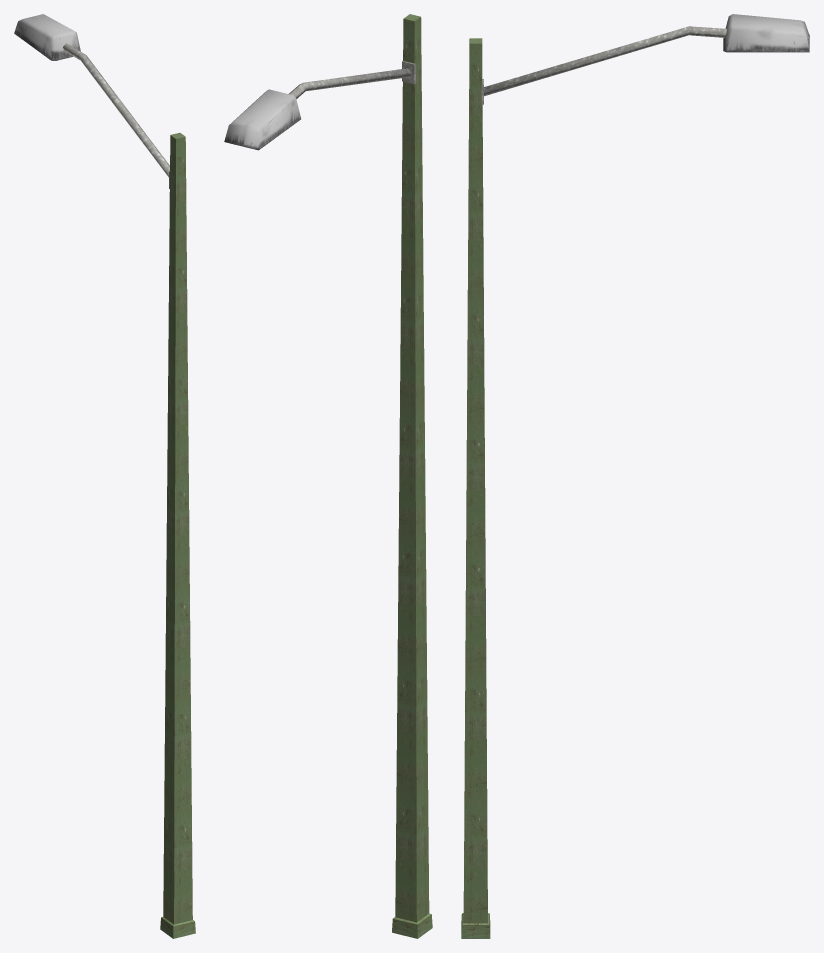
File: streetlamp.glb
3 renders of one model, left to right at view 1: azimuth 30°, elevation 25°; view 2: azimuth 150°, elevation 25°; view 3: azimuth 270°, elevation 25°, orthographic. The views are drawn at different scales.
Visible parts, largest first — view 1: electric_pole_03, LampHead; view 2: electric_pole_03, LampHead; view 3: electric_pole_03, LampHead.
Part boxes in pixels (bbox=[...]): electric_pole_03: bbox=[160, 132, 195, 938]; LampHead: bbox=[14, 14, 169, 188]; electric_pole_03: bbox=[392, 14, 432, 938]; LampHead: bbox=[224, 61, 415, 150]; electric_pole_03: bbox=[461, 38, 490, 938]; LampHead: bbox=[481, 14, 809, 104].
Size of the model in its own units: 0.3968 by 10.28 by 3.56.
3 materials, 3 textured.
